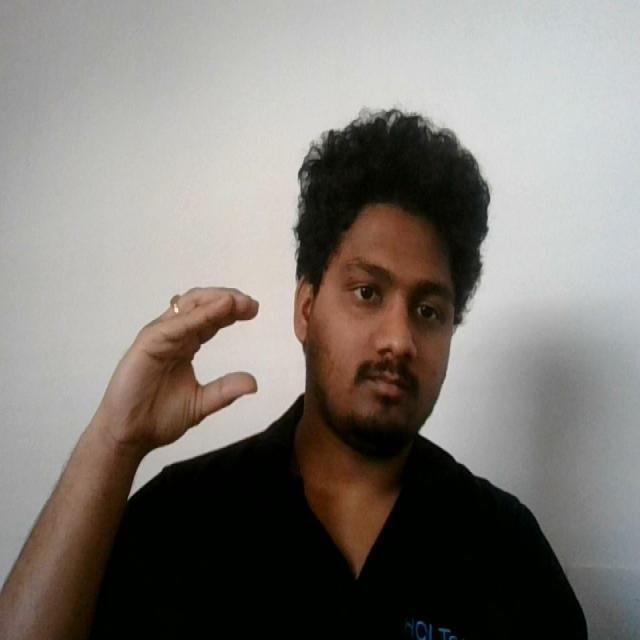No: (90, 271, 266, 462)
